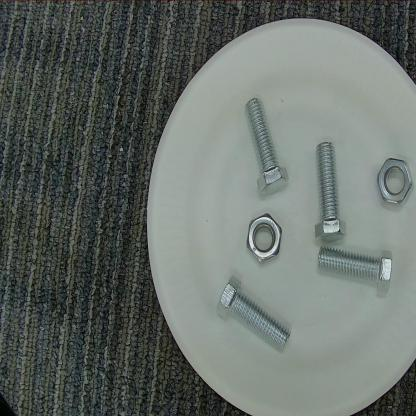FOD: (202, 272, 302, 356), (237, 98, 297, 207), (312, 241, 398, 306), (303, 138, 352, 249), (244, 207, 286, 268), (376, 150, 414, 212)
